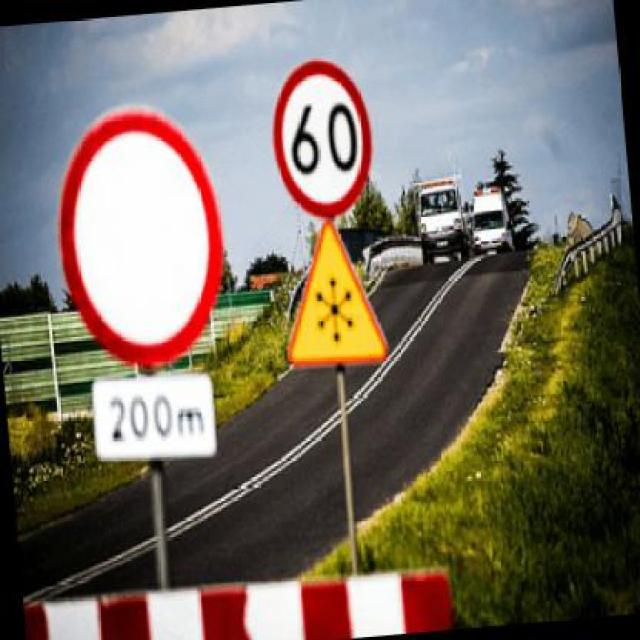Limite-60: (270, 54, 374, 220)
